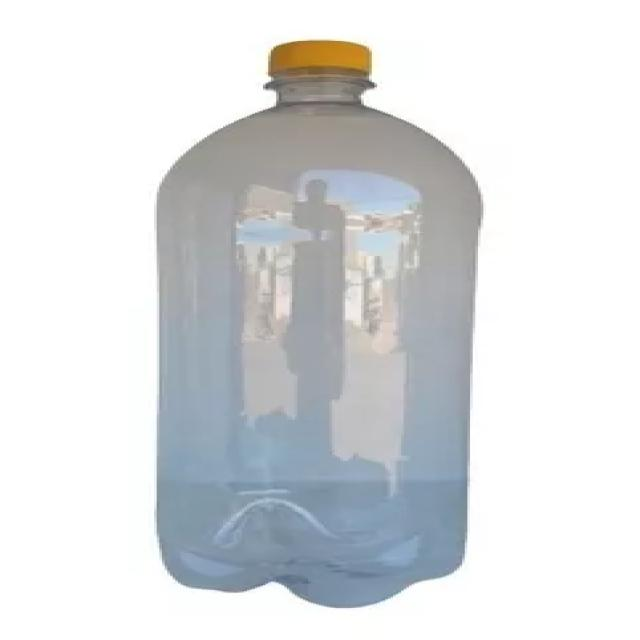bottom: (128, 473, 496, 614)
neck: (153, 38, 485, 238)
